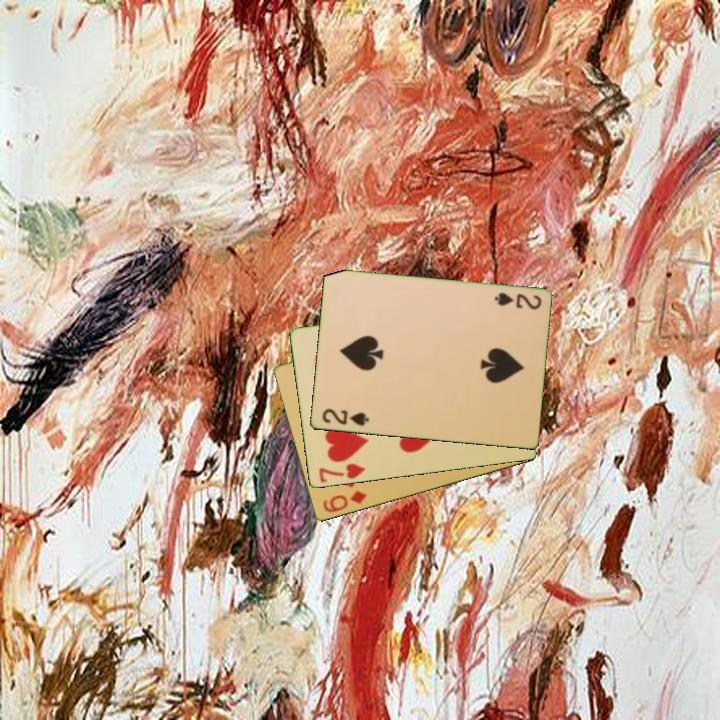2s: (318, 405, 372, 429), (491, 289, 544, 313)
6d: (319, 487, 370, 516)
7h: (315, 460, 368, 486)
